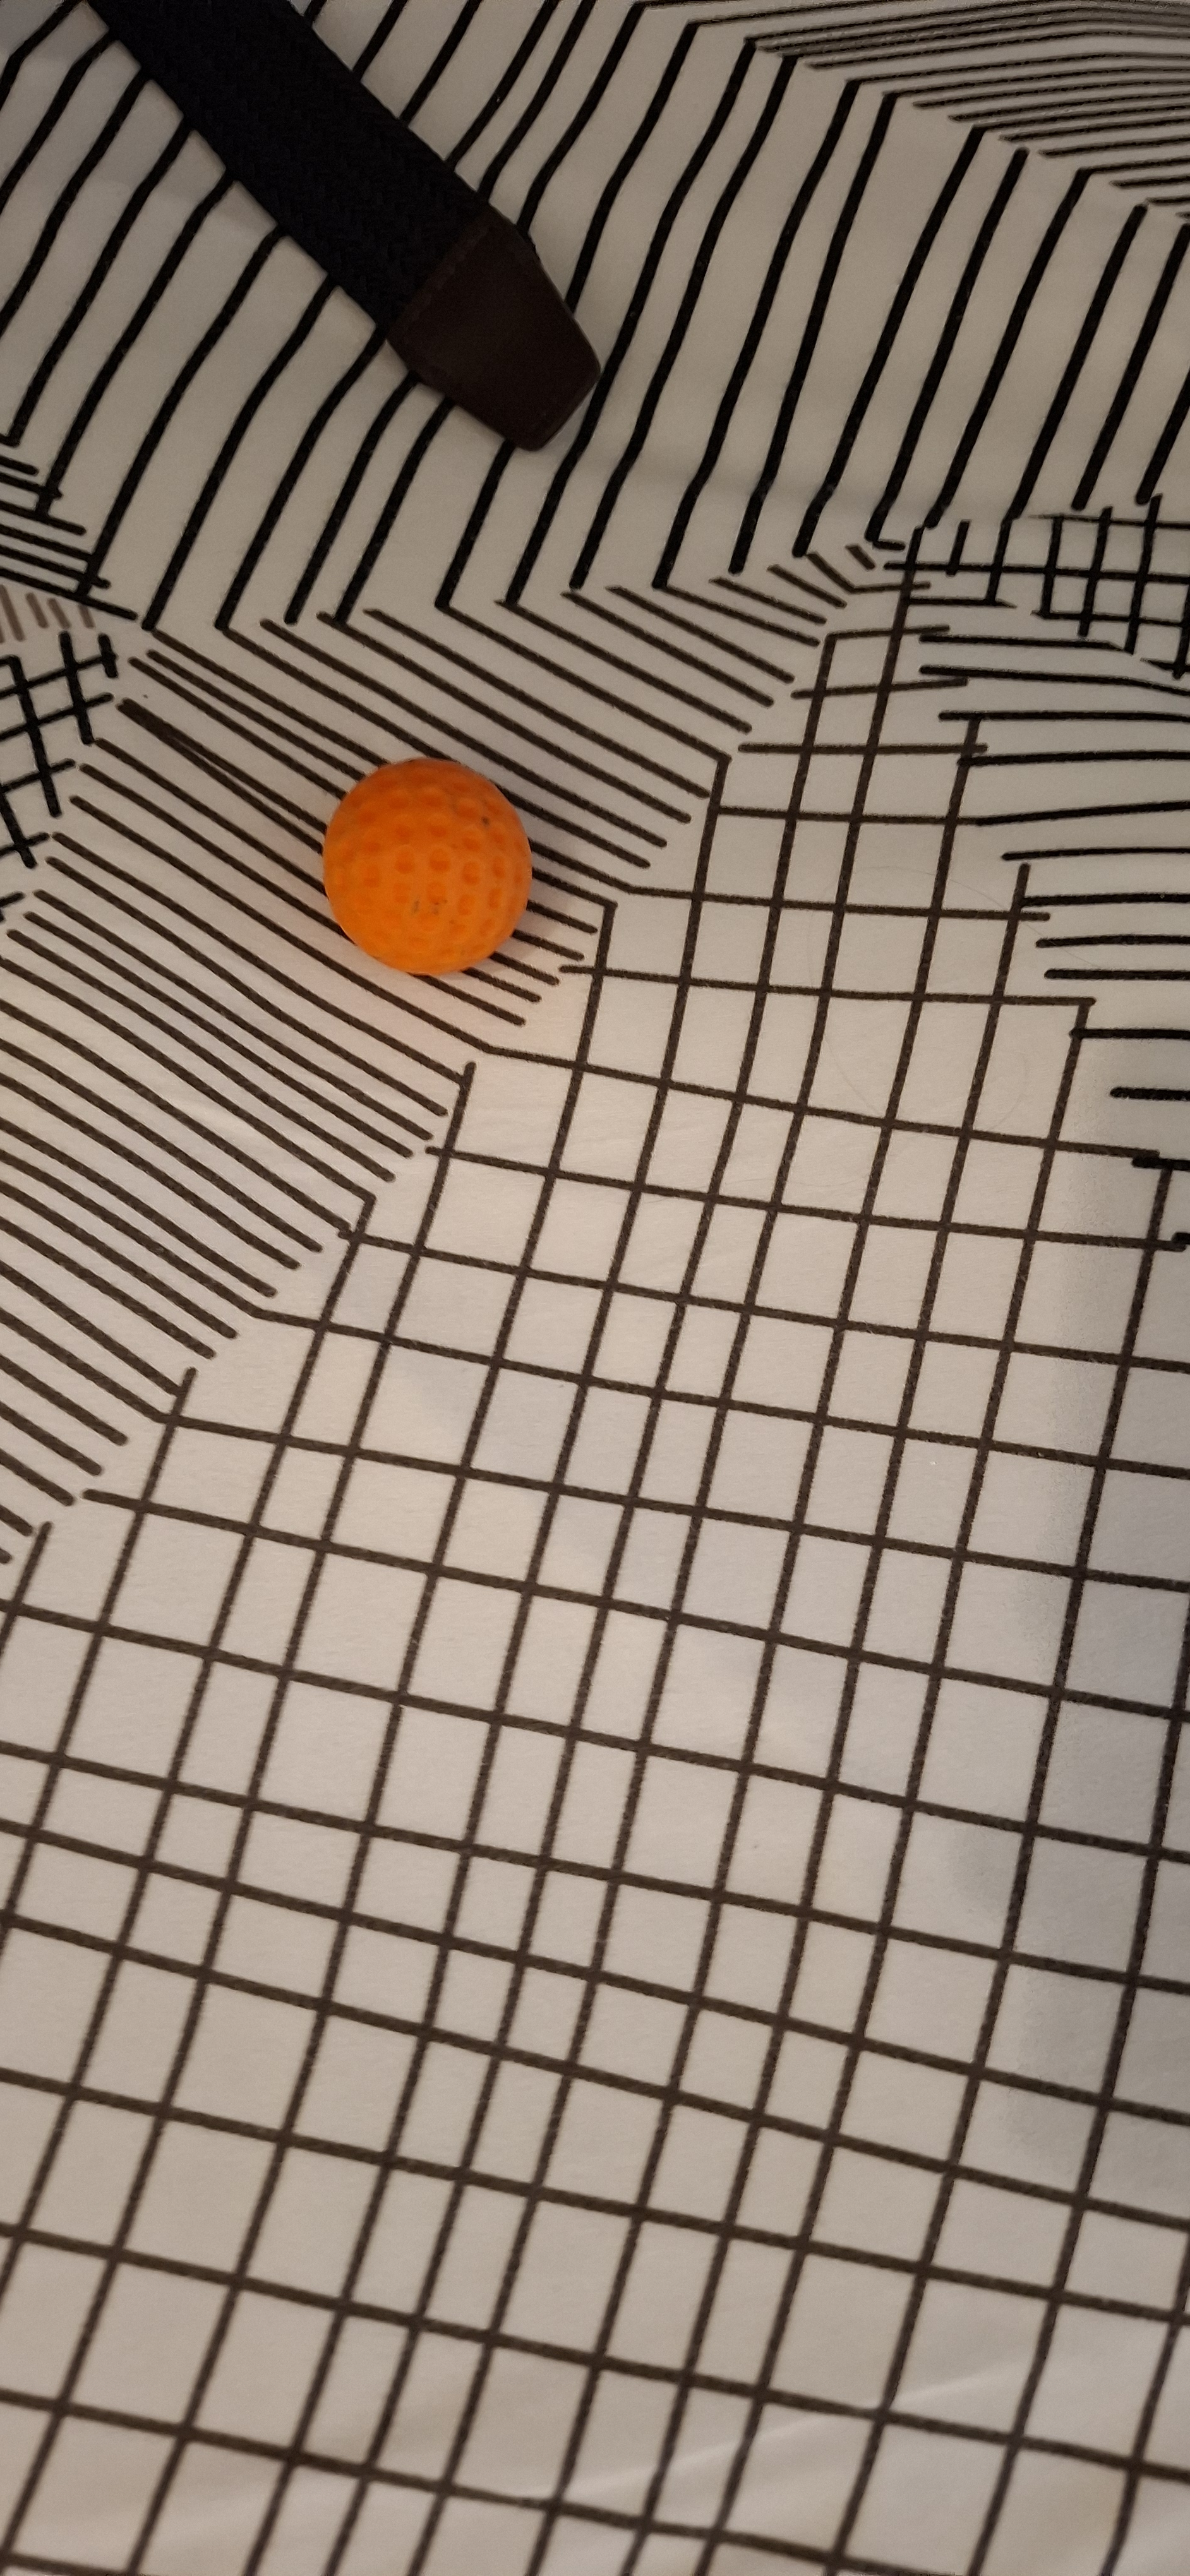ball: (352, 1428, 452, 1879)
